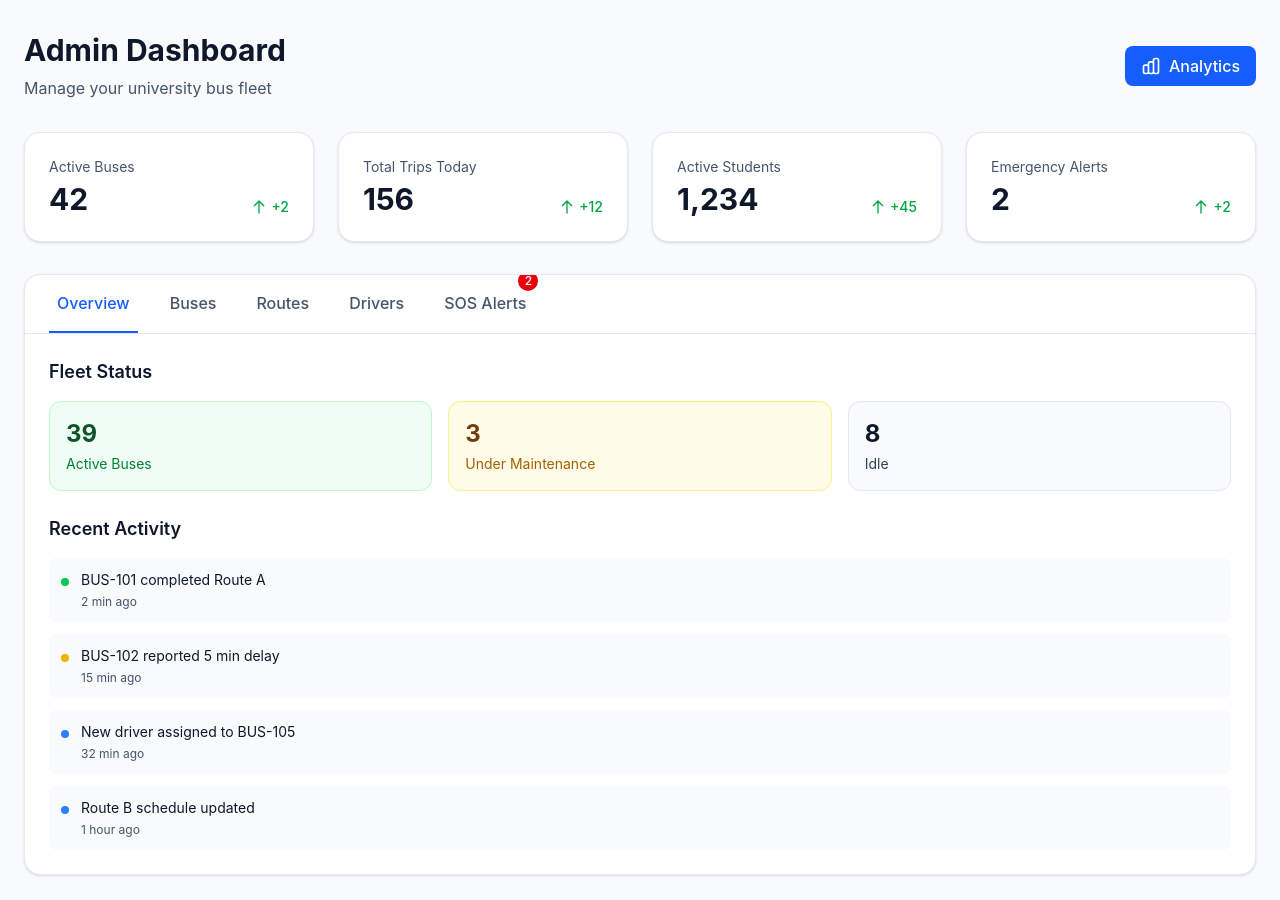
Test case: AdminDashboard › can switch tabs successfully
Check: the heading "Fleet Status" is shown, box [49,361,152,382]
Note: Click on buses tab
Click the button "buses" at (193, 304), box [162,275,224,333]
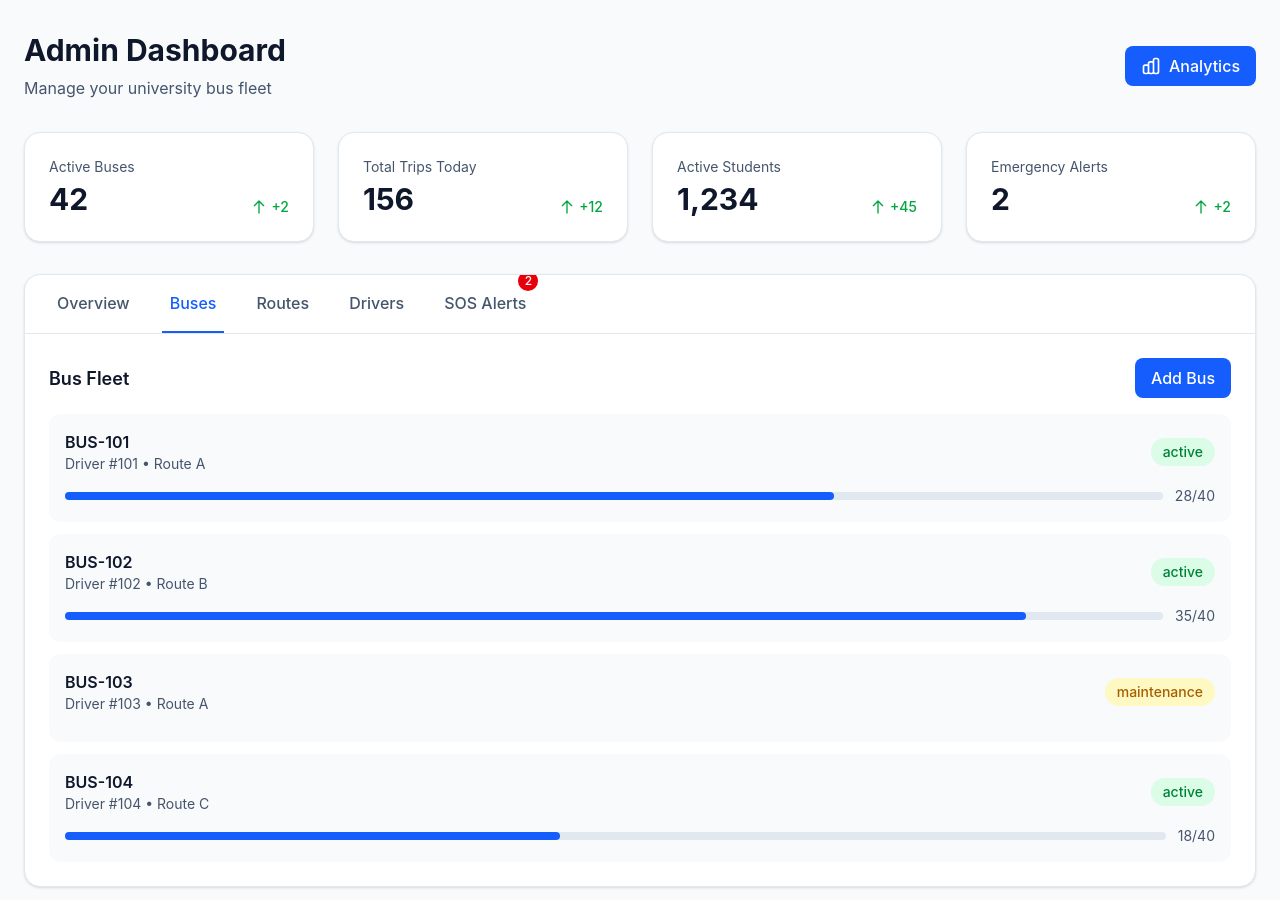
Check: the heading "Bus Fleet" is shown, box [49,364,129,392]
Check: the button "Add Bus" is shown, box [1135,358,1231,398]
Note: Click on Drivers tab
Click the button "drivers" at (377, 304), box [341,275,412,333]
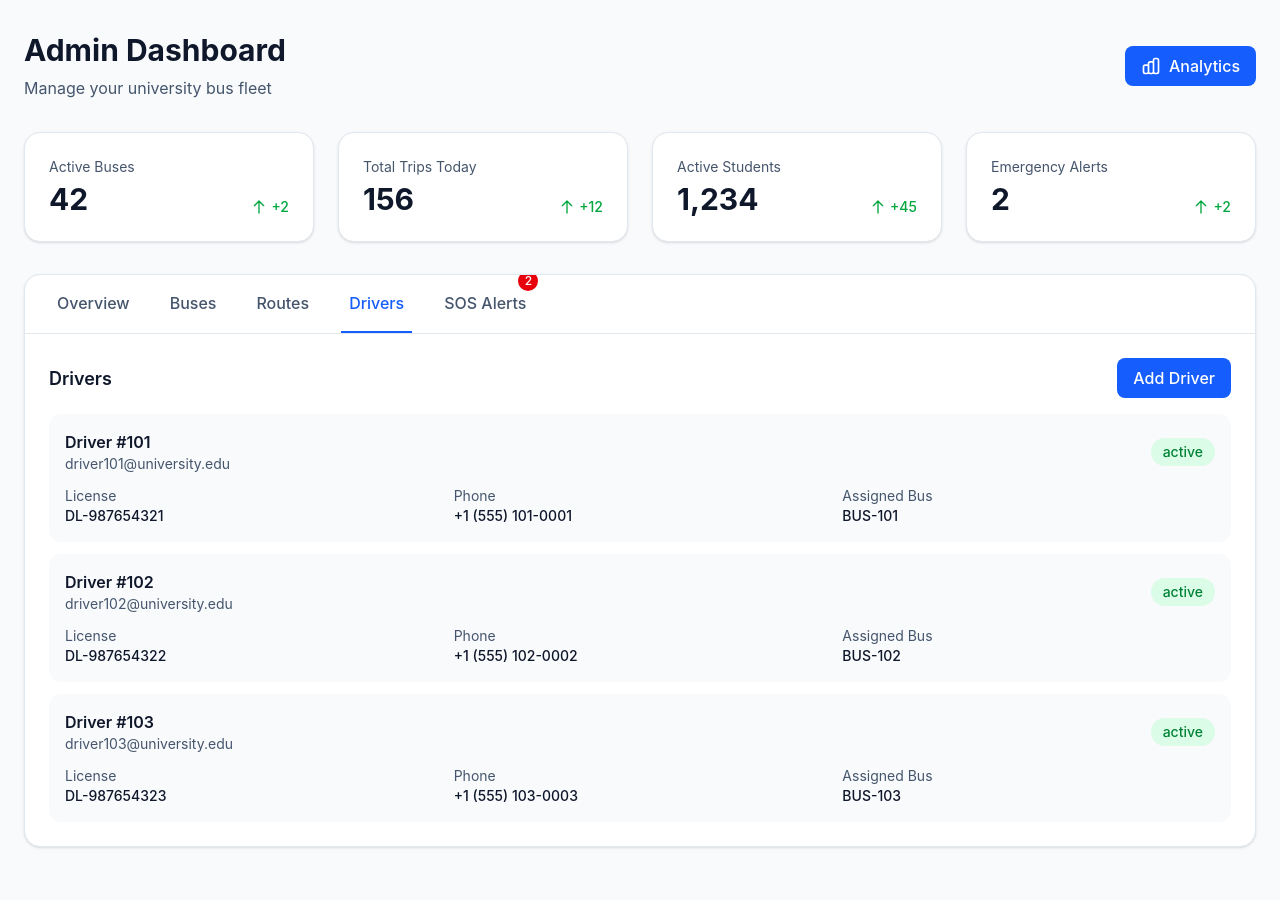
Check: the button "Add Driver" is shown, box [1117,358,1231,398]
